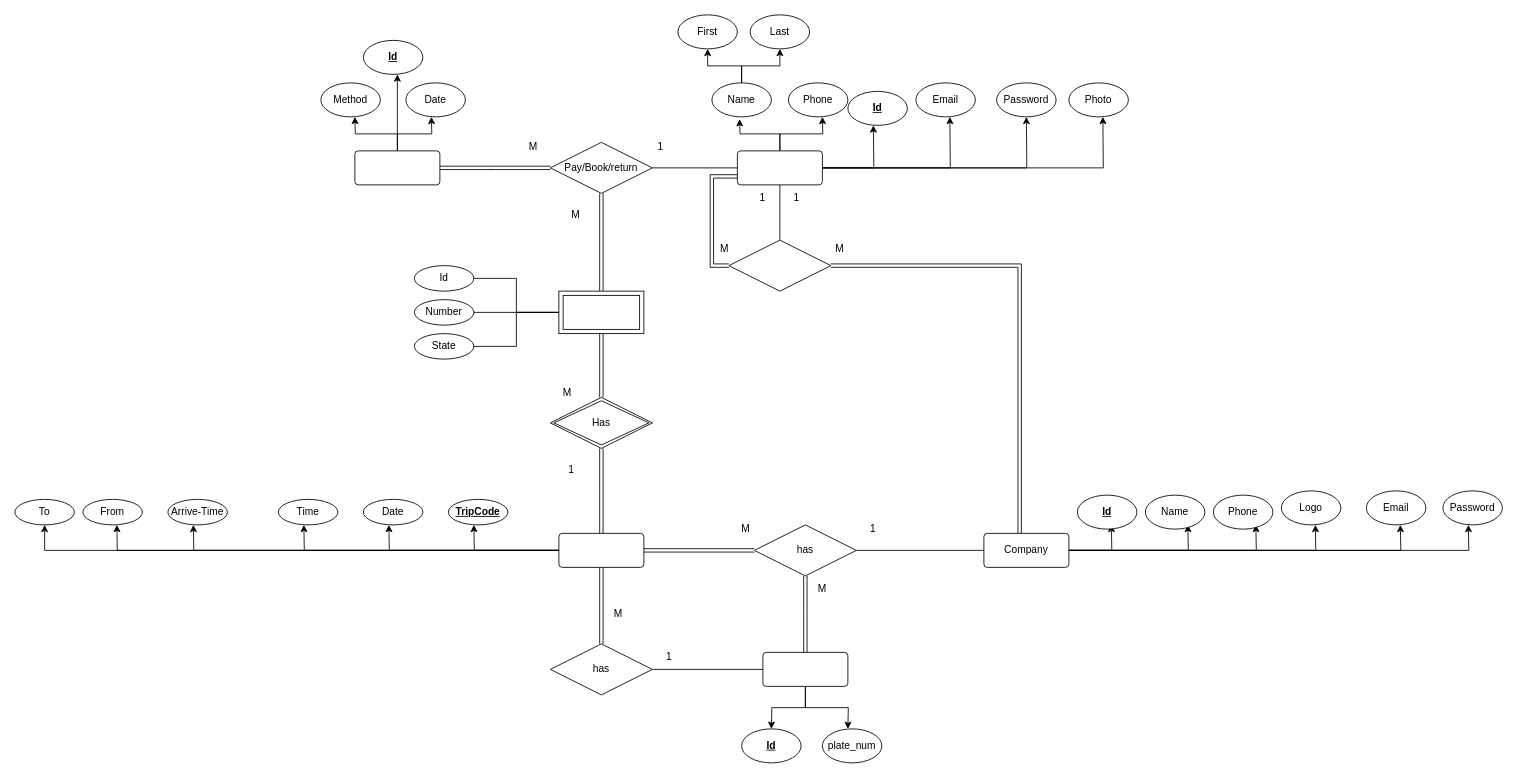
Some shapes in this 1517 by 778 pixel diagram are drawn without their labels. Each missing label, with the centre of its shape:
Bus: the point at 805,669
Manage: the point at 779,265
Payment: the point at 397,167
Seat: the point at 601,312
Trip: the point at 601,550
user: the point at 779,167
